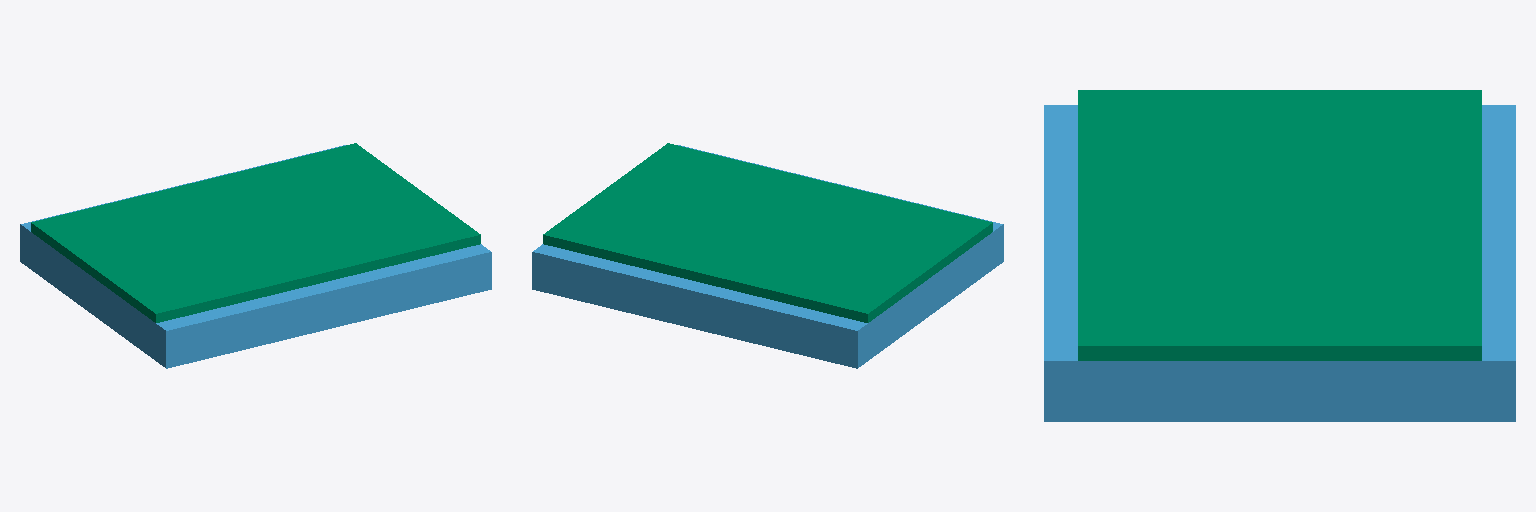
URDF robot description (prismatic_box):
<?xml version="1.0" encoding="UTF-8"?>
<robot name="prismatic_box">
	
	<gazebo>
		<plugin name="gazebo_ros_control" filename="libgazebo_ros_control.so">
			<robotNamespace>/prismatic_box_controller</robotNamespace>
			<robotSimType>gazebo_ros_control/DefaultRobotHWSim</robotSimType>
			<legacyModeNS>true</legacyModeNS>
		</plugin>
	</gazebo>

	<link name="world"/>

	<link name="world_box">
		<inertial>
			<mass value="50000" />
			<origin xyz="0 0 0.0" />
			<inertia ixx="833333" ixy="0.0" ixz="0.0" iyy="1366666" iyz="0.0" izz="2166666" /> 
			<!--Ixx = 1/12/m*(y^2+z^2)-->
		</inertial>

		<visual>
			<origin xyz="0 0 0"  />
			<geometry>
				<box size="18 14 2" />
			</geometry>
		</visual>

		<collision>
			<origin xyz="0 0 0" />
			<geometry>
				<box size="18 14 2" />
			</geometry>
			<!--surface>
				<friction>
				  <ode>
					<mu>0.0</mu>
					<mu2>0.0</mu2>
				  </ode>
				</friction>
			</surface-->
		</collision>
	</link>	
	<gazebo reference="world_box">
		<material>Gazebo/Gray</material>
	</gazebo>

	<joint name="world_box_joint" type="fixed">
		<origin xyz="0 0 1.0" rpy="0 0 0" />
		<parent link="world"/>
		<child link="world_box" />
	</joint>

	<link name="slide_box">
		<inertial>
			<mass value="10000" />
			<origin xyz="0 0 0" />
			<inertia ixx="120208" ixy="0.0" ixz="0.0" iyy="270208" iyz="0.0" izz="390000" /> 
			<!--Ixx = 1/12/m*(y^2+z^2)-->
		</inertial>

		<visual>
			<origin xyz="0 0 0" />
			<geometry>
				<box size="18 12 0.5" />
			</geometry>
		</visual>

		<collision>
			<origin xyz="0 0 0" />
			<geometry>
				<box size="18 12 0.5" />
			</geometry>
			<!--surface>
				<friction>
				  <ode>
					<mu>0.0</mu>
					<mu2>0.0</mu2>
				  </ode>
				</friction>
			</surface-->
		</collision>
	</link>	
	<gazebo reference="slide_box">
		<material>Gazebo/Blue</material>
	</gazebo>

	<joint name="slide_box_joint" type="fixed">
		<origin xyz="0 0 1.25" rpy="0 0 0" />
		<parent link="world_box"/>
		<child link="slide_box" />
	</joint>

	<link name="box">
        <inertial>
			<mass value="50000" />
			<origin xyz="0 0 0" />
			<inertia ixx="566666" ixy="0.0" ixz="0.0" iyy="1816666" iyz="0.0" izz="2083333" /> 
			<!--Ixx = 1/12/m*(y^2+z^2)-->
        </inertial>

		<visual name='visual'>
          <geometry>
            <!--mesh>
              <uri>model://granite_dell_terrain/pbr-less-1.dae</uri>
            </mesh-->
			<mesh filename="package://gazebo_sim_models/models/double_rock_site/double_rock_site.dae"/>
          </geometry>
        </visual>

        <collision name='collision'>
		  <origin xyz="0 0 0" />
          <surface>
				<friction>
				  <ode>
					<mu>0.6</mu>
					<mu2>0.6</mu2>
				  </ode>
				  <bullet>
					<friction>0.65</friction>
					<friction2>0.65</friction2>
					<rolling_friction>0.6</rolling_friction>
				  </bullet>
				</friction>
				<contact>
					<ode>
						<min_depth>0.003</min_depth>
					</ode>
				</contact>
				<bounce>
            		<restitution_coefficient>0.9</restitution_coefficient>
            		<threshold>0.1</threshold>
          		</bounce>
		  </surface>
          <geometry>
            <mesh filename="package://gazebo_sim_models/models/double_rock_site/double_rock_site.dae"/>
          </geometry>
        </collision>
	</link>

	<gazebo reference="box">
		<material>simple_terrain</material>
		<mu1>0.6</mu1>
		<mu2>0.6</mu2>
		<minDepth>0.0001</minDepth>
		<maxContacts>10</maxContacts>
	</gazebo>

	<joint name="box_joint" type="prismatic">
		<origin xyz="0 0 3.5" rpy="0 0 0" />
		<parent link="slide_box"/>
		<child link="box" />
        <xis xyz = "1 0 0"/>
		<limit effort="100000000" lower="-25" upper="25" velocity="200" />
	</joint>

	

    <transmission name="tran1">
        <type>transmission_interface/SimpleTransmission</type>
        <joint name="box_joint">
            <hardwareInterface>hardware_interface/EffortJointInterface</hardwareInterface>
        </joint>
        <actuator name="motor1">
            <hardwareInterface>hardware_interface/EffortJointInterface</hardwareInterface>
            <mechanicalReduction>1</mechanicalReduction>
        </actuator>
    </transmission>


</robot>

--- What the picture shows (computed from the rendered views, not written in the file) ---
The picture shows the robot from 3 angles, left to right: view 1: azimuth 30°, elevation 25°; view 2: azimuth 150°, elevation 25°; view 3: azimuth 270°, elevation 25°; orthographic projection.
Robot: prismatic_box — 4 links, 3 joints (1 prismatic, 2 fixed); root link world; default pose: all joints at 0.
Visible links, largest first — view 1: slide_box, world_box; view 2: slide_box, world_box; view 3: slide_box, world_box.
Link boxes in pixels (left/top/right/bottom): slide_box: left=31, top=143, right=480, bottom=322; world_box: left=20, top=145, right=491, bottom=368; slide_box: left=543, top=143, right=992, bottom=322; world_box: left=532, top=145, right=1003, bottom=368; slide_box: left=1078, top=90, right=1481, bottom=360; world_box: left=1044, top=105, right=1515, bottom=421.
Bounding box of the posed robot: 18 × 14 × 2.5 m (x, y, z).
0 mesh visuals loaded from 1 distinct referenced files (none loaded); not drawn: 1 (reference not matched to a file when rendering).